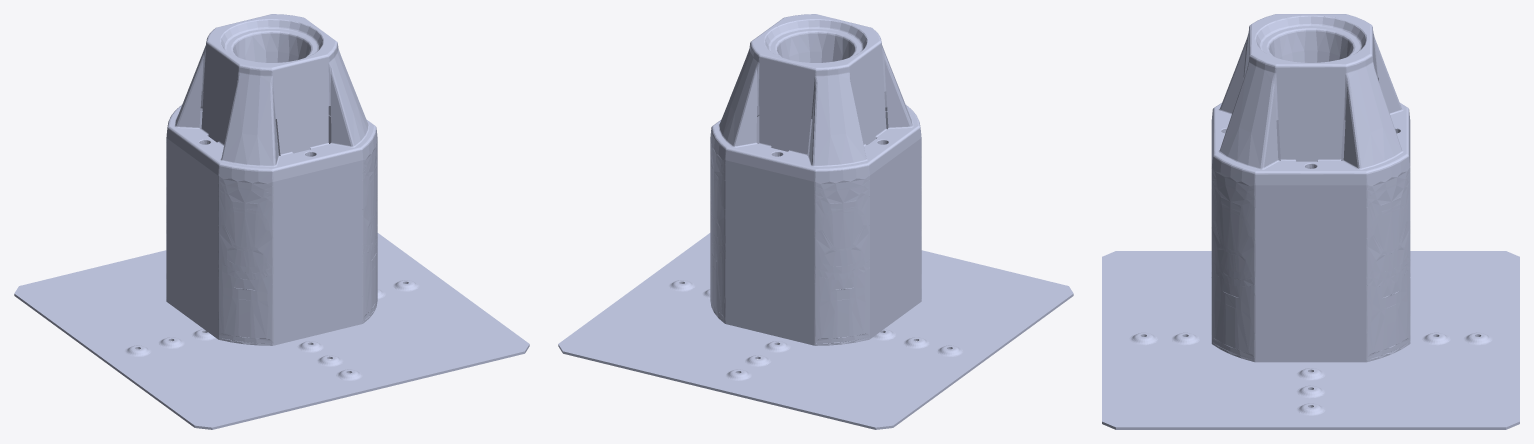
File: goal_tall.glb
3 views of the same model, side by side, from view 1: azimuth 30°, elevation 25°; view 2: azimuth 150°, elevation 25°; view 3: azimuth 270°, elevation 25° (orthographic). The views are drawn at different scales.
Visible parts, largest first — view 1: world; view 2: world; view 3: world.
Boxes of the visible parts, <box> form: world: <box>14,14,529,429</box>; world: <box>558,14,1073,429</box>; world: <box>1102,14,1519,429</box>.
Size of the model in its own units: 0.3 by 0.2397 by 0.3.
